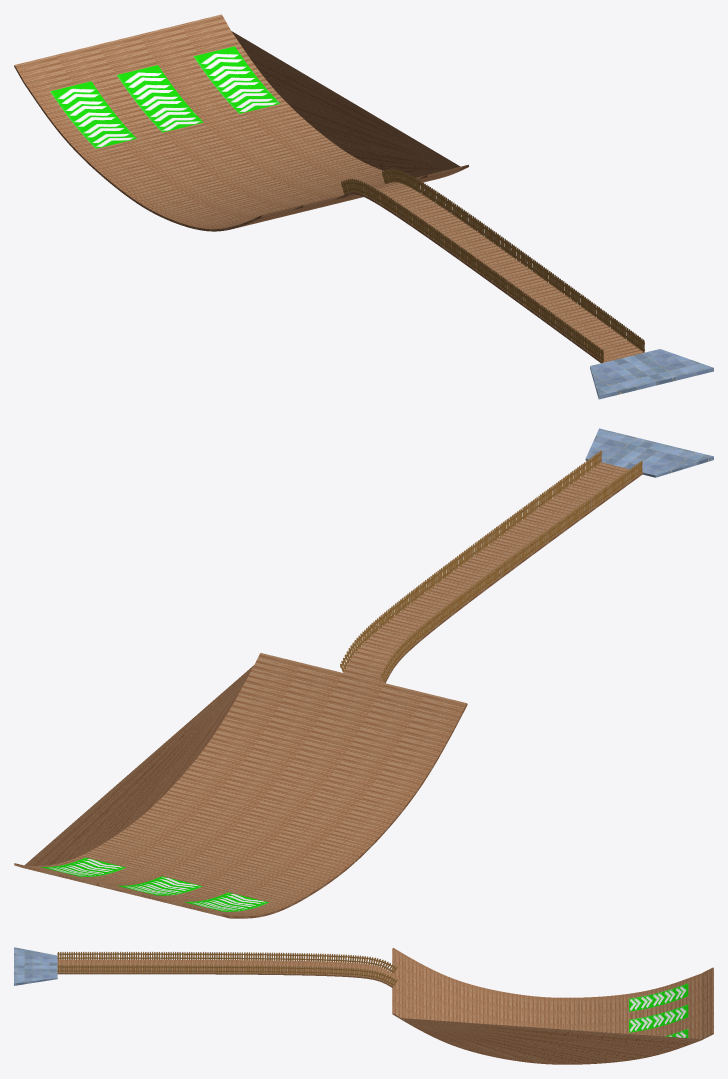
File: track 7.fbx
3 renders of one model, top to bottom at view 1: azimuth 30°, elevation 25°; view 2: azimuth 150°, elevation 25°; view 3: azimuth 270°, elevation 25°, orthographic. The views are drawn at different scales.
Visible parts, largest first — view 1: Cube, Cube.003, Cube.002, Cube.001; view 2: Cube, Cube.002, Cube.001, Cube.003; view 3: Cube, Cube.002, Cube.003, Cube.001.
Part boxes in pixels (box(x1,y1,x2,y2)): Cube: box(14, 14, 643, 363); Cube.003: box(50, 46, 280, 148); Cube.002: box(341, 168, 644, 362); Cube.001: box(590, 349, 713, 399); Cube: box(14, 462, 642, 918); Cube.002: box(340, 450, 642, 682); Cube.001: box(585, 428, 713, 477); Cube.003: box(40, 857, 269, 911); Cube: box(57, 948, 713, 1064); Cube.002: box(57, 951, 397, 986); Cube.003: box(629, 983, 688, 1037); Cube.001: box(14, 947, 57, 985).
Size of the model in its own units: 1499 by 790 by 6763.
Materials: 4 (4 with a texture image).
